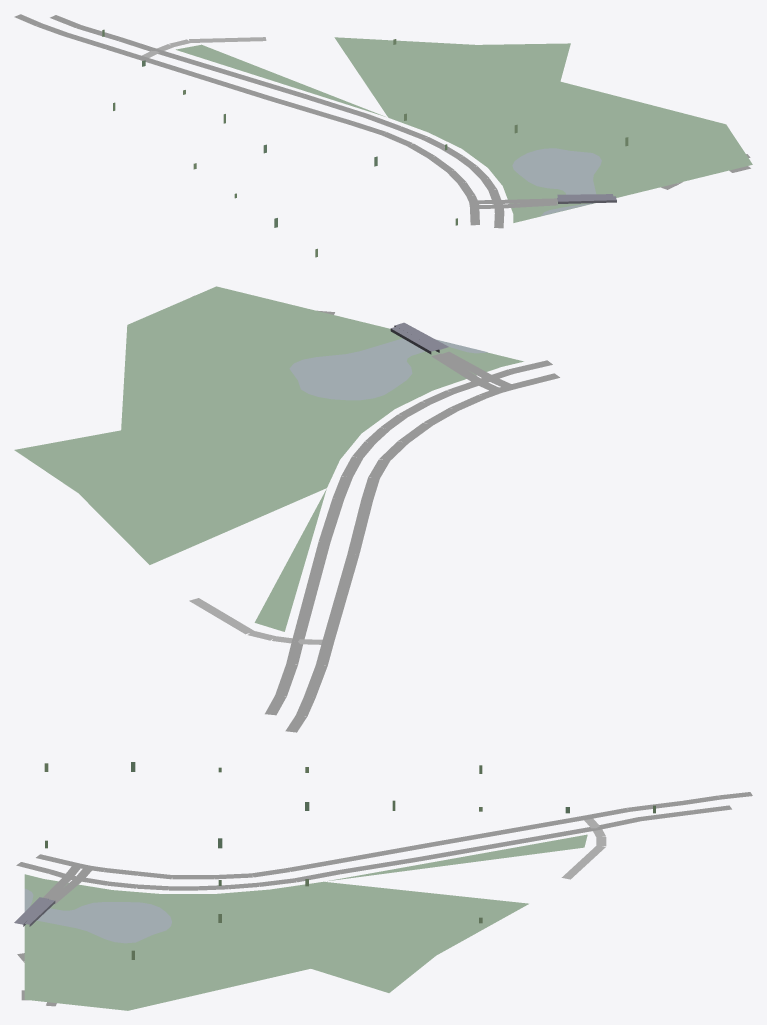
3 renders of one model, top to bottom at view 1: azimuth 30°, elevation 25°; view 2: azimuth 150°, elevation 25°; view 3: azimuth 270°, elevation 25°, orthographic. The views are drawn at different scales.
Size of the model in its own units: 384 by 12.66 by 510.
